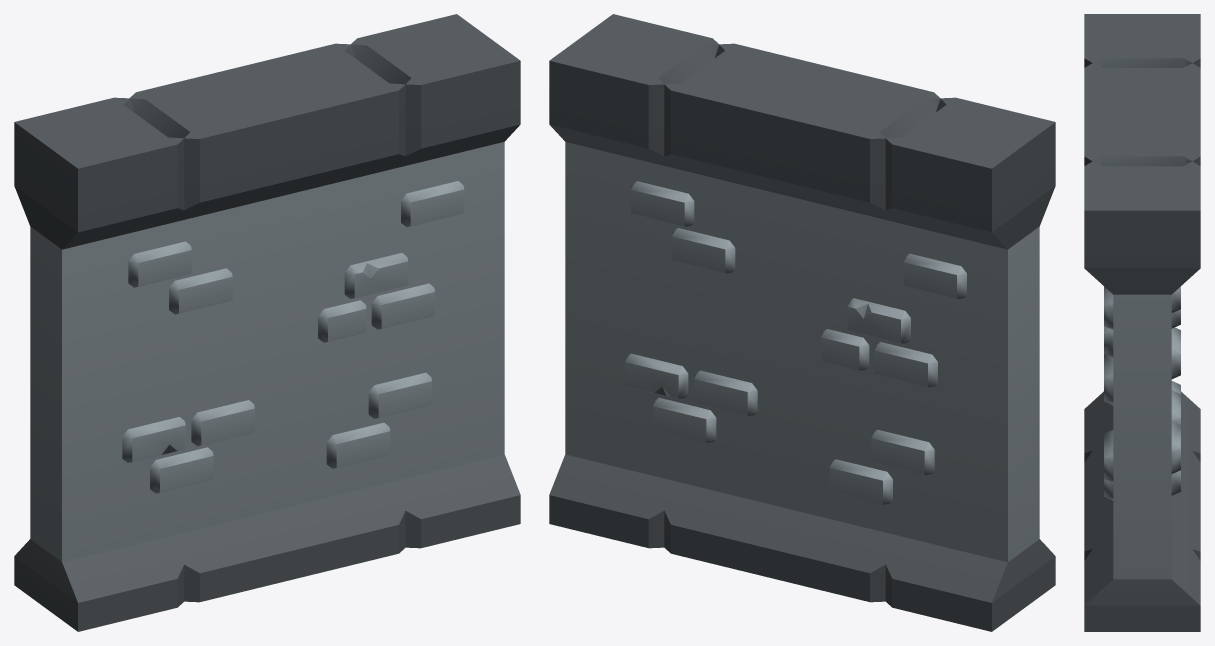
The model's file is wall.obj.
The picture shows the model from 3 angles, left to right: view 1: azimuth 30°, elevation 25°; view 2: azimuth 150°, elevation 25°; view 3: azimuth 270°, elevation 25°; orthographic projection. The views are drawn at different scales.
Visible parts, largest first — view 1: wall; view 2: wall; view 3: wall.
Part boxes in pixels (<box>): wall: <box>14,14,520,631</box>; wall: <box>549,14,1055,631</box>; wall: <box>1084,14,1200,631</box>.
Size of the model in its own units: 4 by 4 by 1.
1 material, 1 textured.
